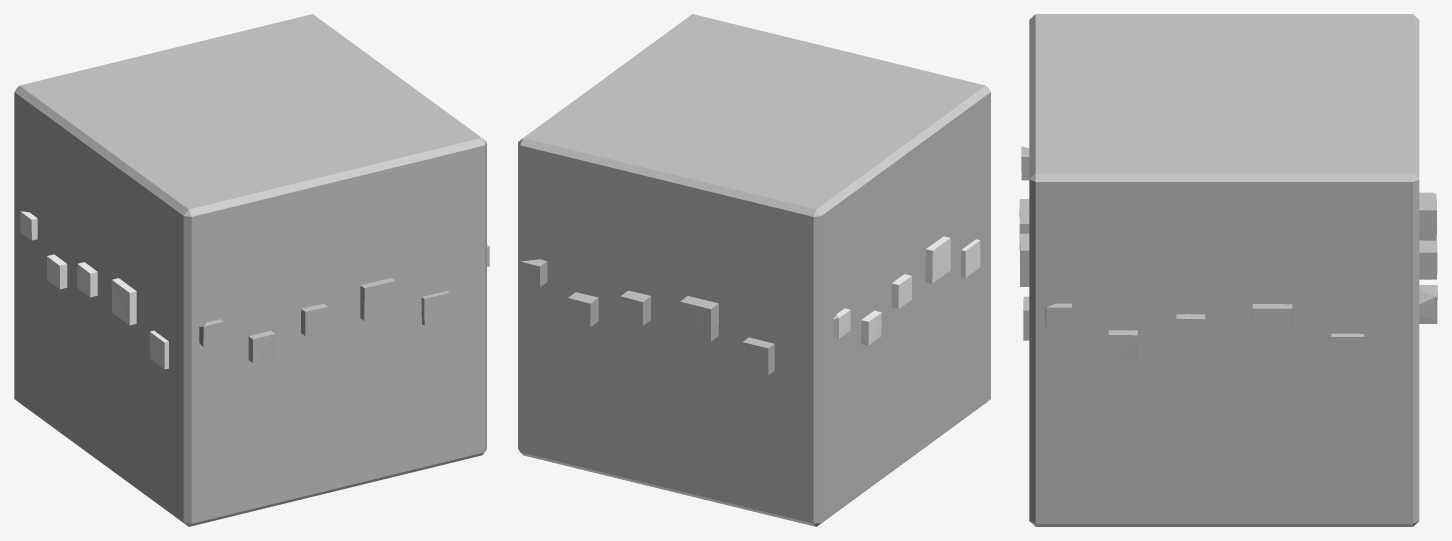
The model's file is sitzhocker.obj.
3 views of the same model, side by side, from view 1: azimuth 30°, elevation 25°; view 2: azimuth 150°, elevation 25°; view 3: azimuth 270°, elevation 25° (orthographic). The views are drawn at different scales.
Visible parts, largest first — view 1: Cube, 278151_23_06_15_13_26_19_1.002, 278151_23_06_15_13_26_19_1; view 2: Cube, 278151_23_06_15_13_26_19_1.001, 278151_23_06_15_13_26_19_1; view 3: Cube, 278151_23_06_15_13_26_19_1.003, 278151_23_06_15_13_26_19_1.001, 278151_23_06_15_13_26_19_1.002.
Boxes of the visible parts, x1=… form: Cube: x1=14, y1=14, x2=486, y2=526; 278151_23_06_15_13_26_19_1.002: x1=199, y1=278, x2=449, y2=362; 278151_23_06_15_13_26_19_1: x1=20, y1=211, x2=168, y2=369; Cube: x1=518, y1=14, x2=990, y2=526; 278151_23_06_15_13_26_19_1.001: x1=520, y1=259, x2=774, y2=375; 278151_23_06_15_13_26_19_1: x1=832, y1=236, x2=980, y2=345; Cube: x1=1029, y1=14, x2=1419, y2=526; 278151_23_06_15_13_26_19_1.003: x1=1045, y1=303, x2=1364, y2=366; 278151_23_06_15_13_26_19_1.001: x1=1419, y1=192, x2=1437, y2=323; 278151_23_06_15_13_26_19_1.002: x1=1019, y1=146, x2=1029, y2=340.
Size of the model in its own units: 2.11 by 2 by 2.14.
